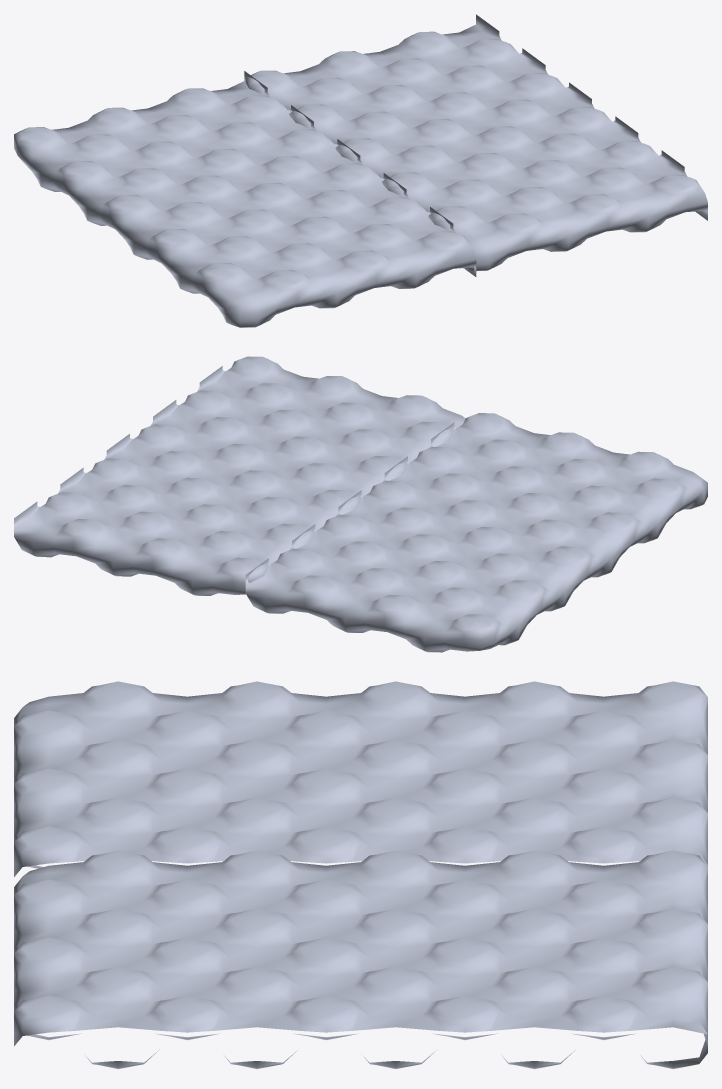
Rendered from piece of plastic.glb.
3 views of the same model, one above another, from view 1: azimuth 30°, elevation 25°; view 2: azimuth 150°, elevation 25°; view 3: azimuth 270°, elevation 25° (orthographic). The views are drawn at different scales.
Parts seen in each view (by area): view 1: pCube1_1, pCube2_2; view 2: pCube1_1, pCube2_2; view 3: pCube2_2, pCube1_1.
Boxes of the visible parts, box(x1,y1,x2,y2) form: pCube1_1: box(14, 71, 476, 327); pCube2_2: box(245, 14, 707, 271); pCube1_1: box(245, 413, 707, 652); pCube2_2: box(14, 356, 465, 595); pCube2_2: box(14, 850, 707, 1069); pCube1_1: box(14, 681, 707, 876).
Size of the model in its own units: 0.3743 by 0.0282 by 0.32.
